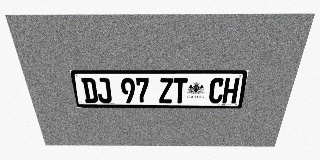7: (135, 78, 150, 103)
9: (120, 78, 136, 103)
C: (208, 78, 225, 103)
D: (81, 78, 98, 103)
H: (222, 78, 240, 103)
J: (95, 78, 112, 103)
T: (173, 78, 188, 103)
Z: (159, 78, 173, 103)
